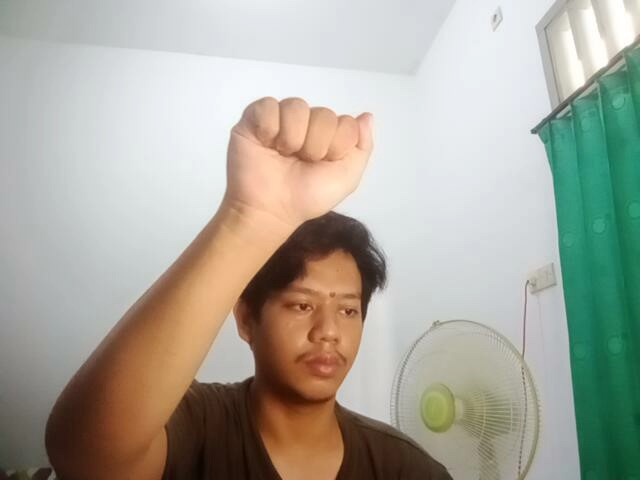A: (219, 93, 379, 226)
